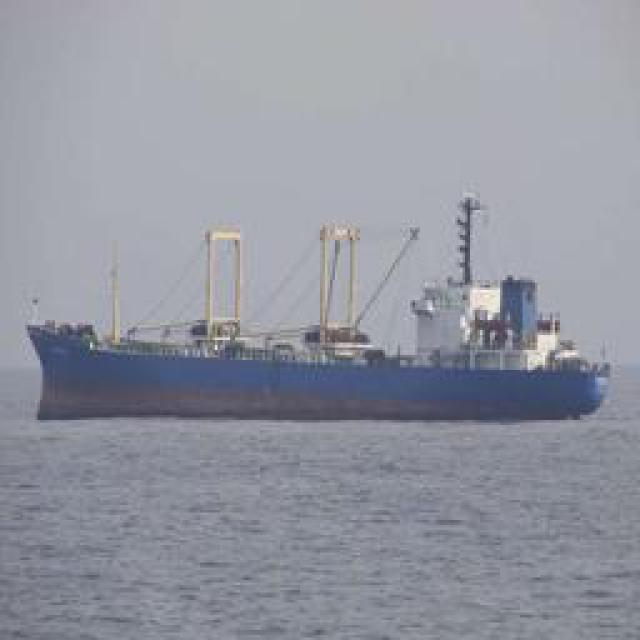Ship: (31, 214, 621, 427)
